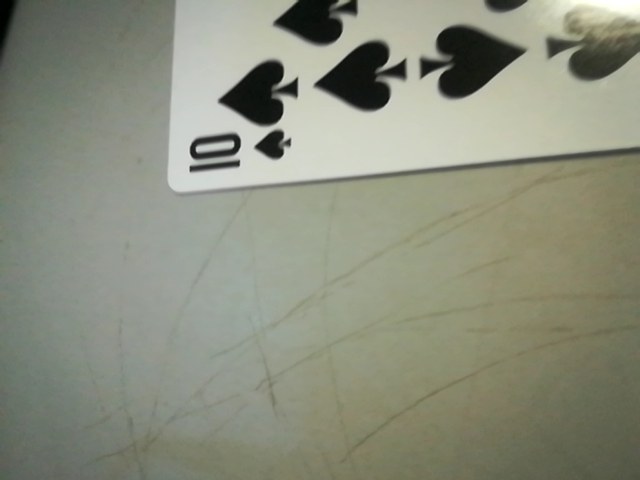ht 10: (169, 107, 310, 189)
